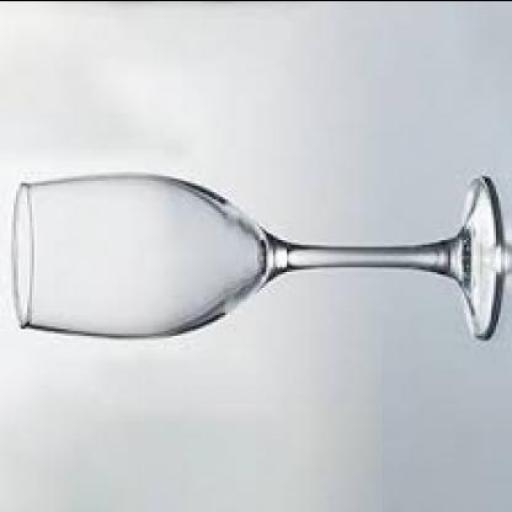glass: (9, 175, 501, 344)
